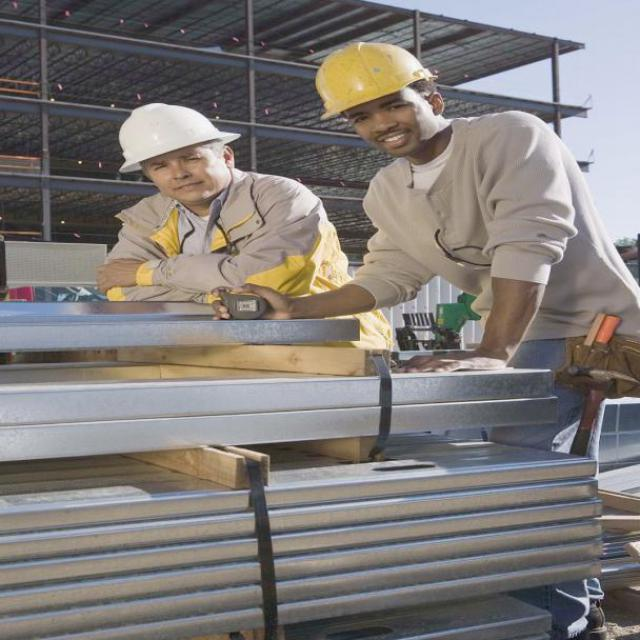helmet: (302, 34, 455, 154), (107, 98, 231, 218)
